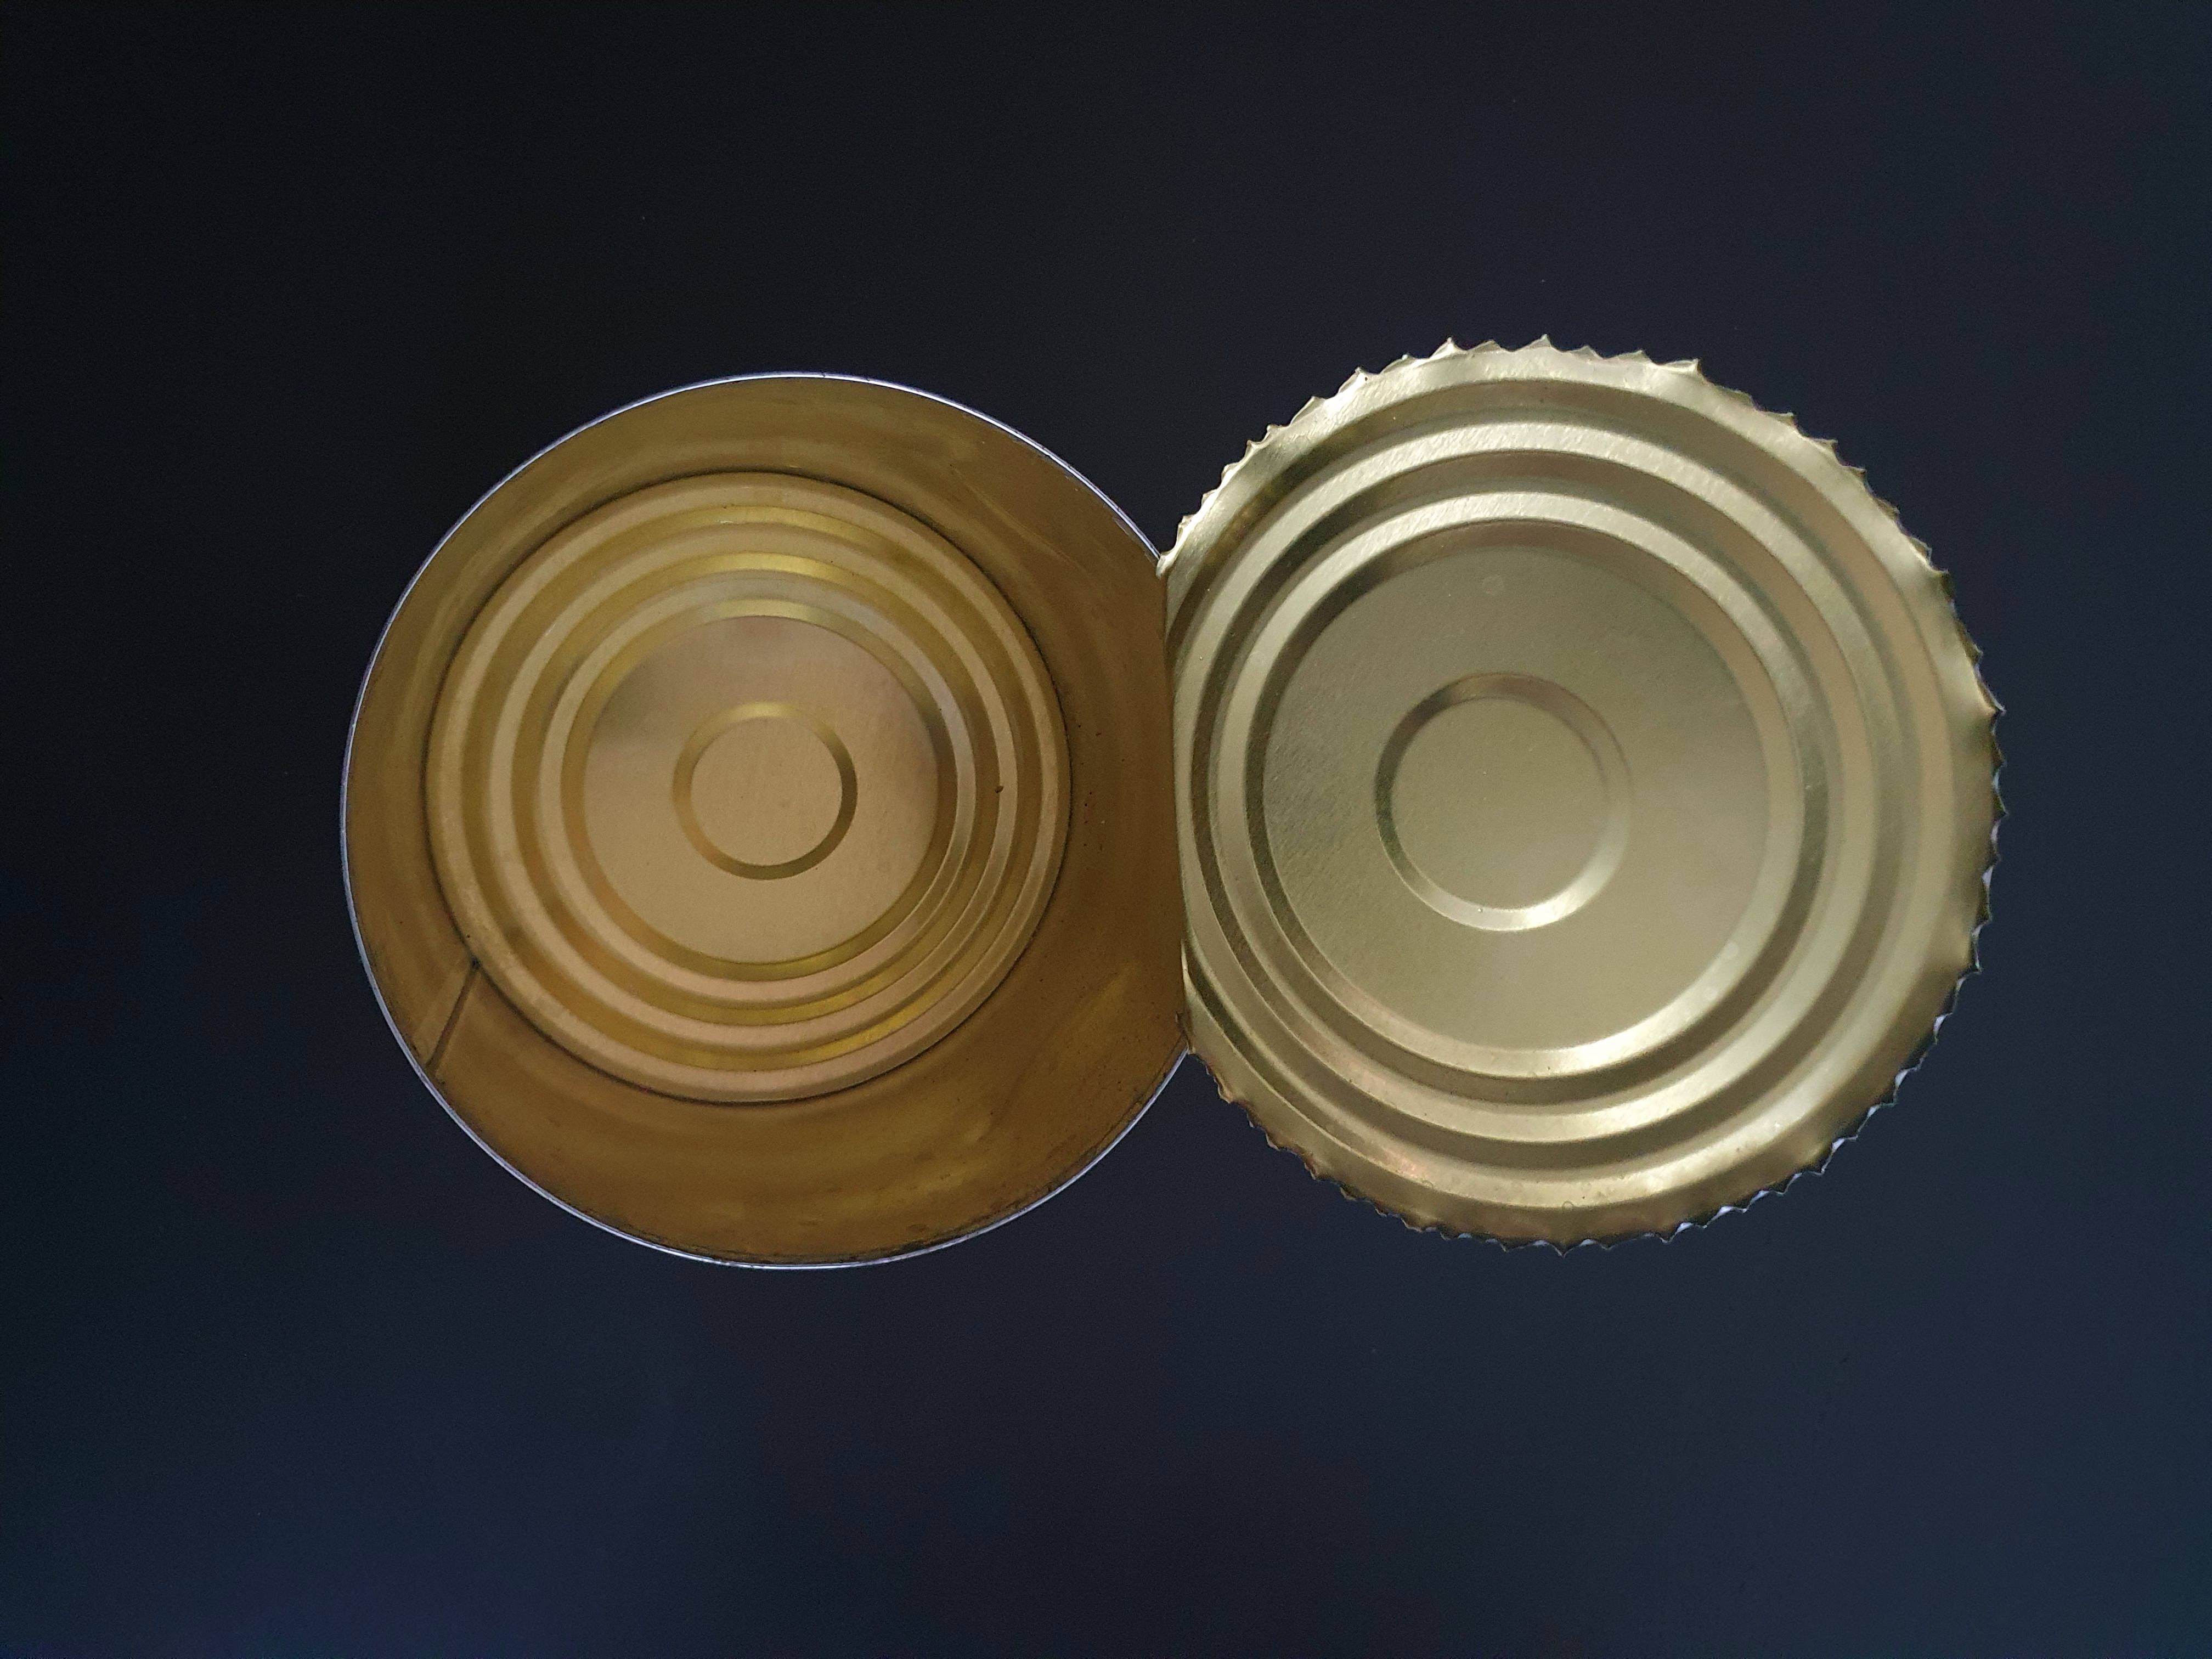metal: (322, 240, 2020, 1358)
